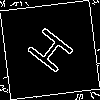H: (25, 25, 83, 81)
